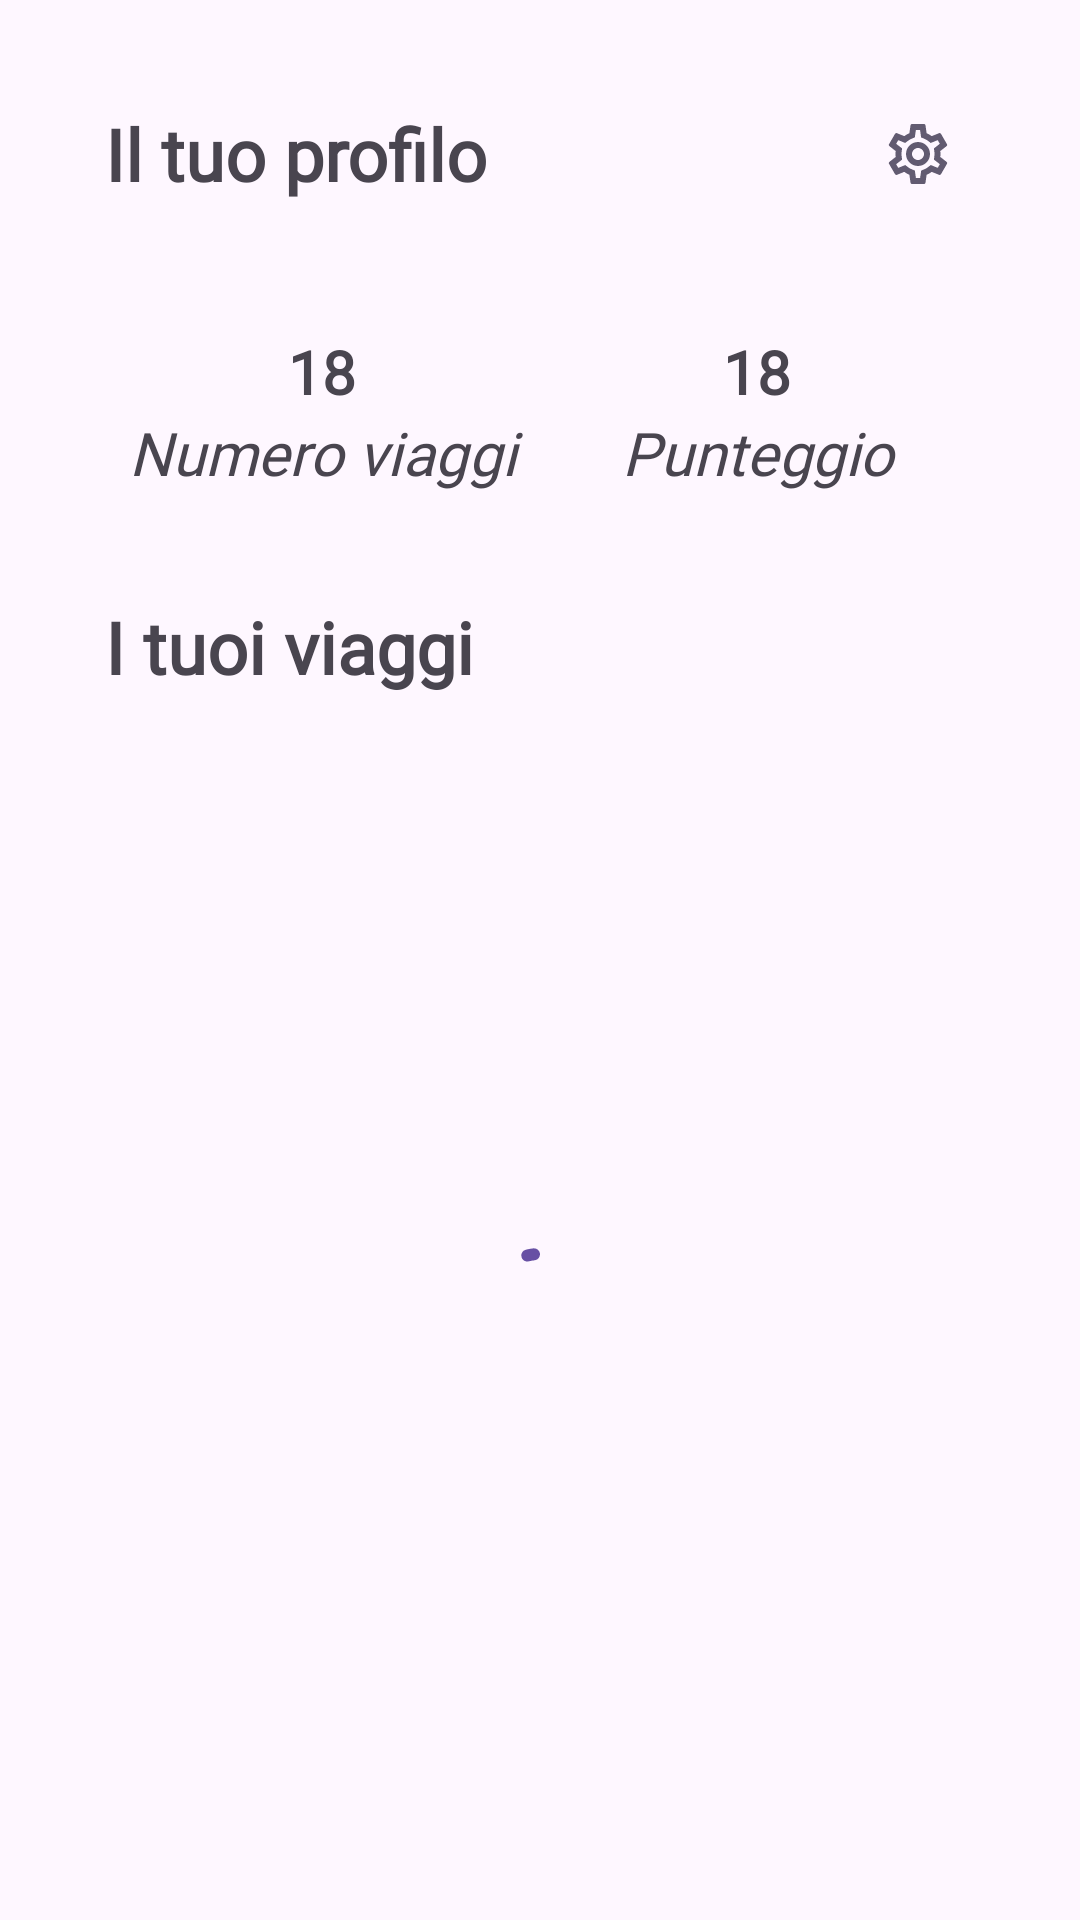

Icon click points for this 1080px x 1920px phone screenshot, format [x,y]:
settings: [918,154]
